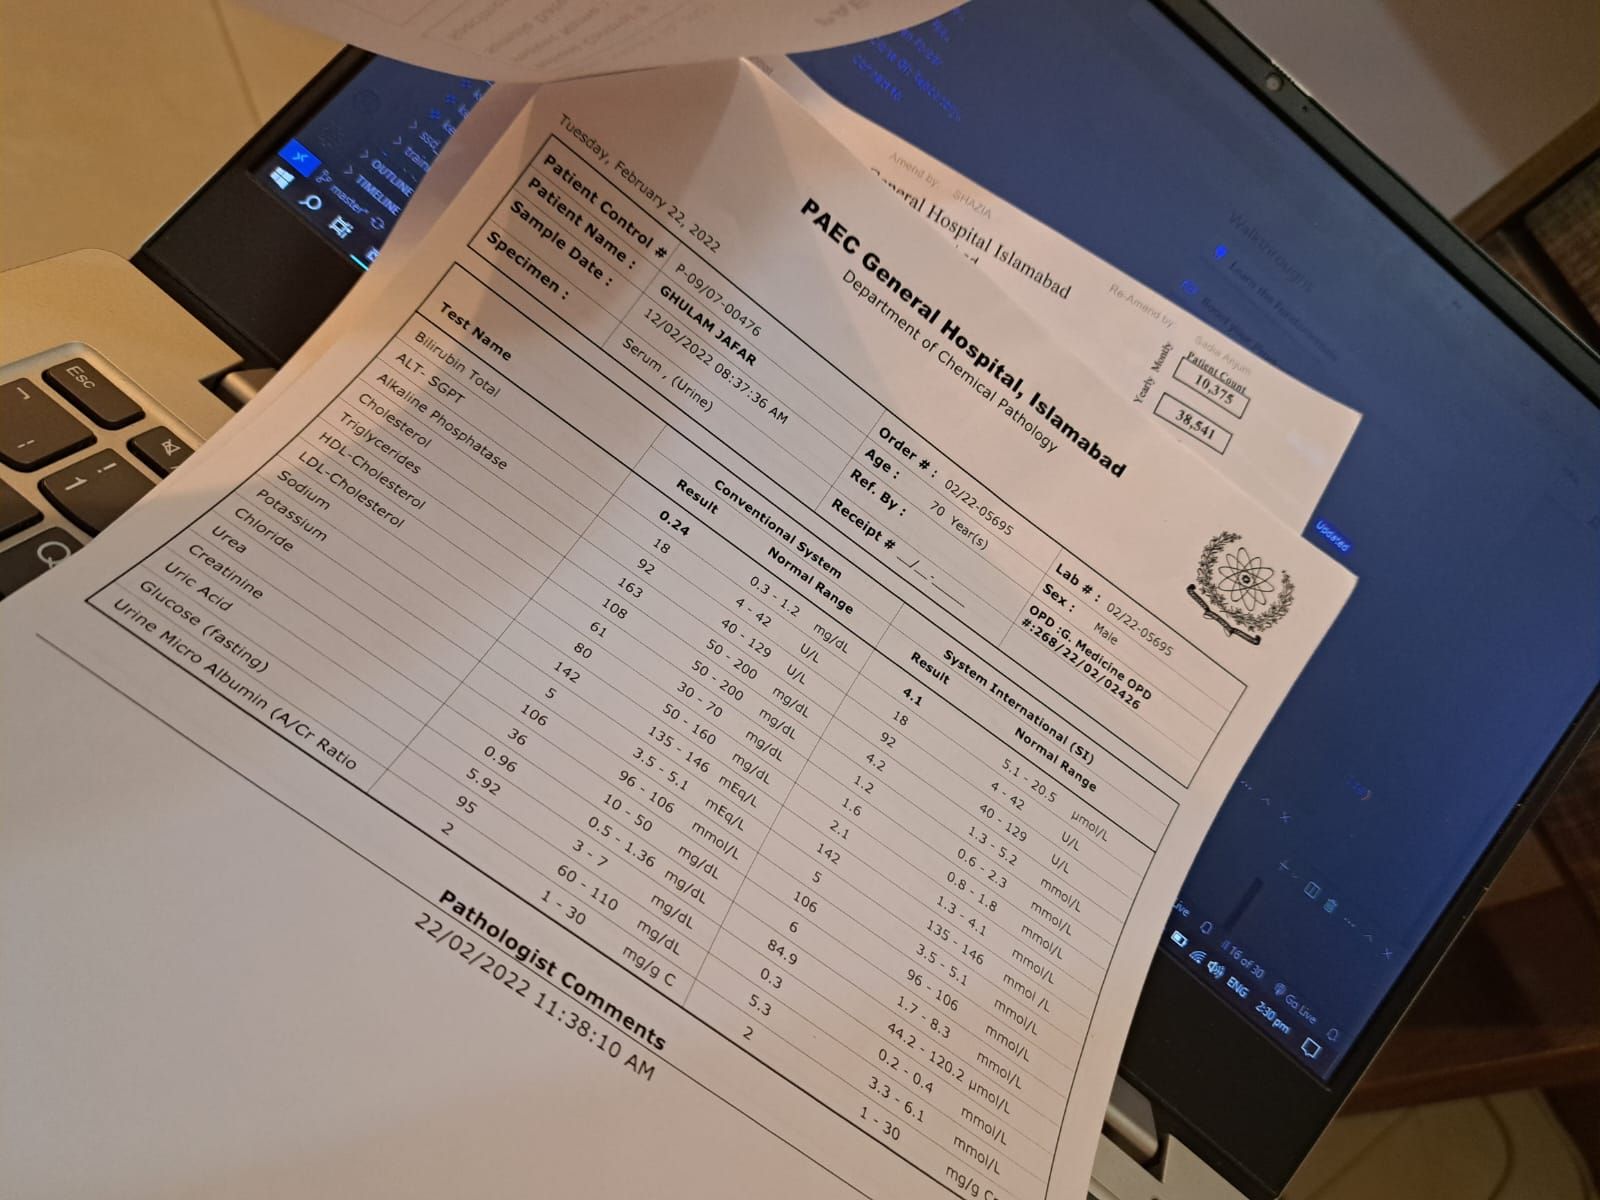report: (88, 260, 1175, 1200)
